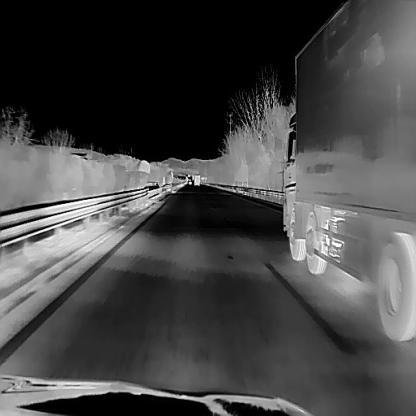truck: (281, 0, 415, 339), (193, 173, 200, 185)
